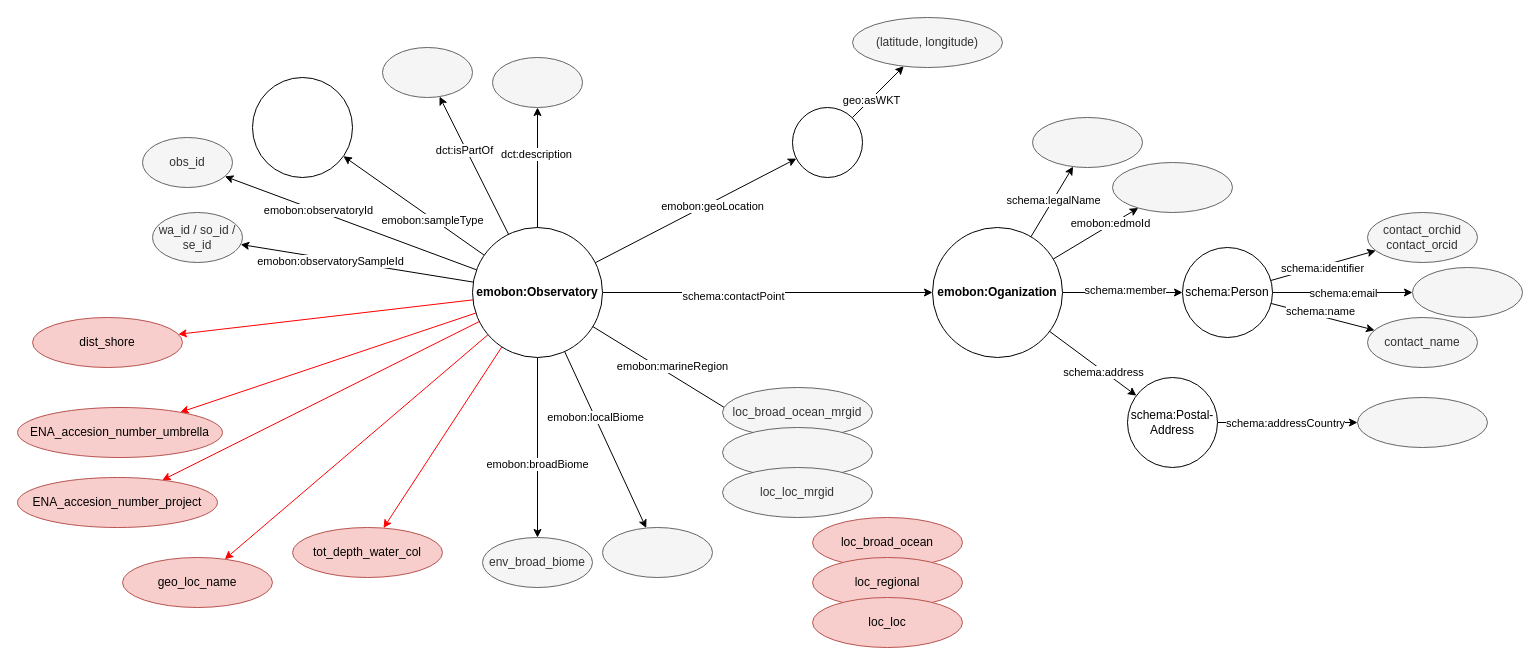
Some shapes in this 1540 by 665 pixel diagram are drawn without their labels. The shapes that lost their labels are listed below. From the top down, each one's centre as x and y in pixels, then its label:
At point (427, 72): "project_name".
At point (537, 82): "extra_site_info".
At point (302, 127): "emobon:Water emobon:Soil emobon:Hard".
At point (827, 142): "sf:Point".
At point (1087, 142): "organization".
At point (1172, 187): "organization_edmoid".
At point (1467, 292): "contact_email".
At point (1422, 422): "organization_country".
At point (797, 452): "loc_regional_mrgid".
At point (657, 552): "env_local".
